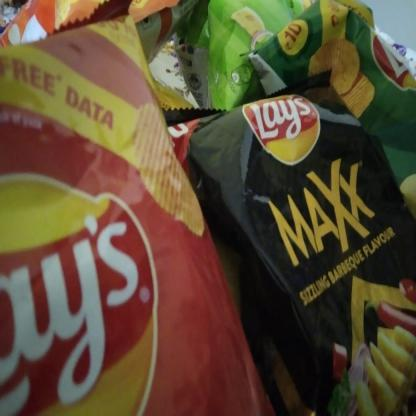maxx_sizzling_barbeque: (200, 107, 415, 415)
